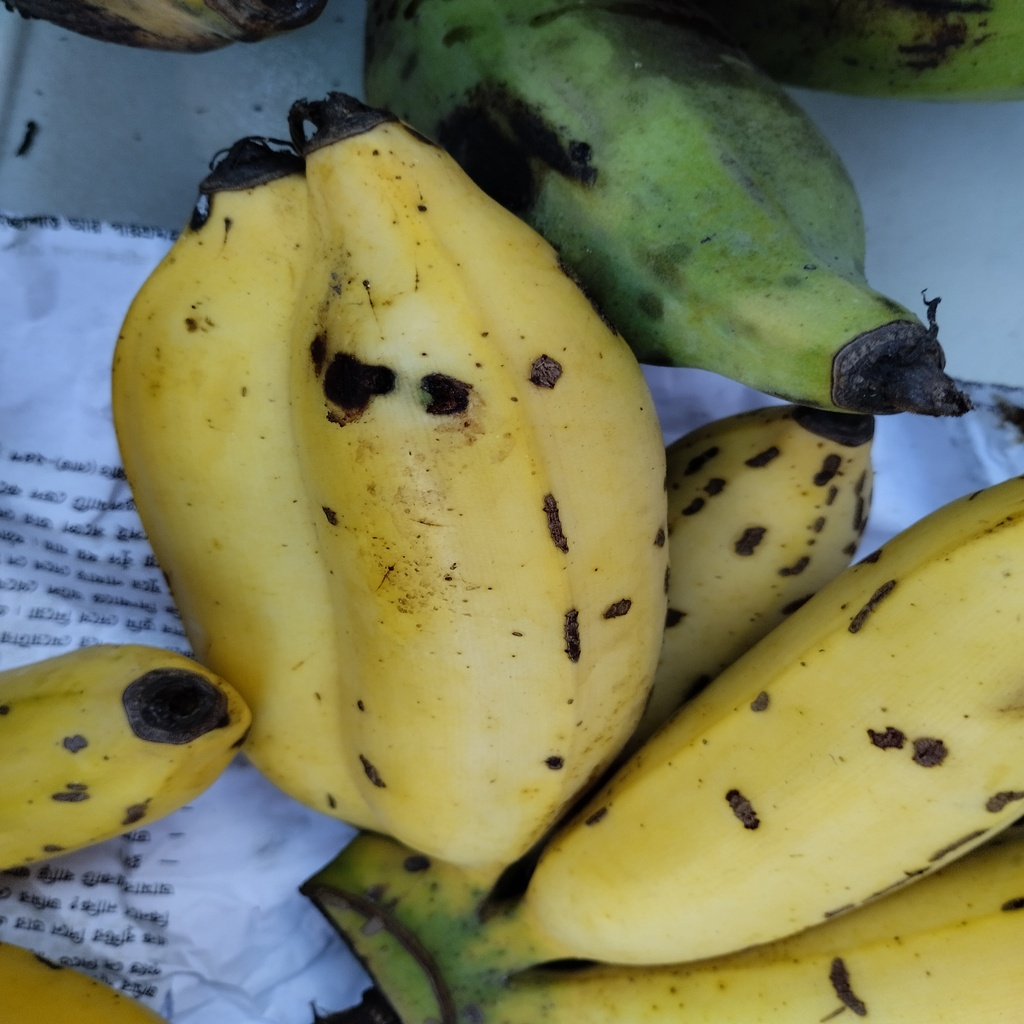unhealthy: (112, 94, 664, 876)
